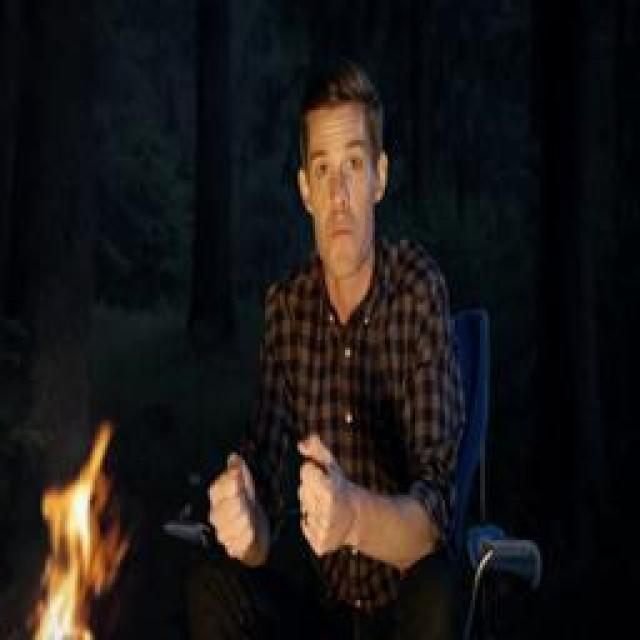Fire: (32, 422, 136, 640)
